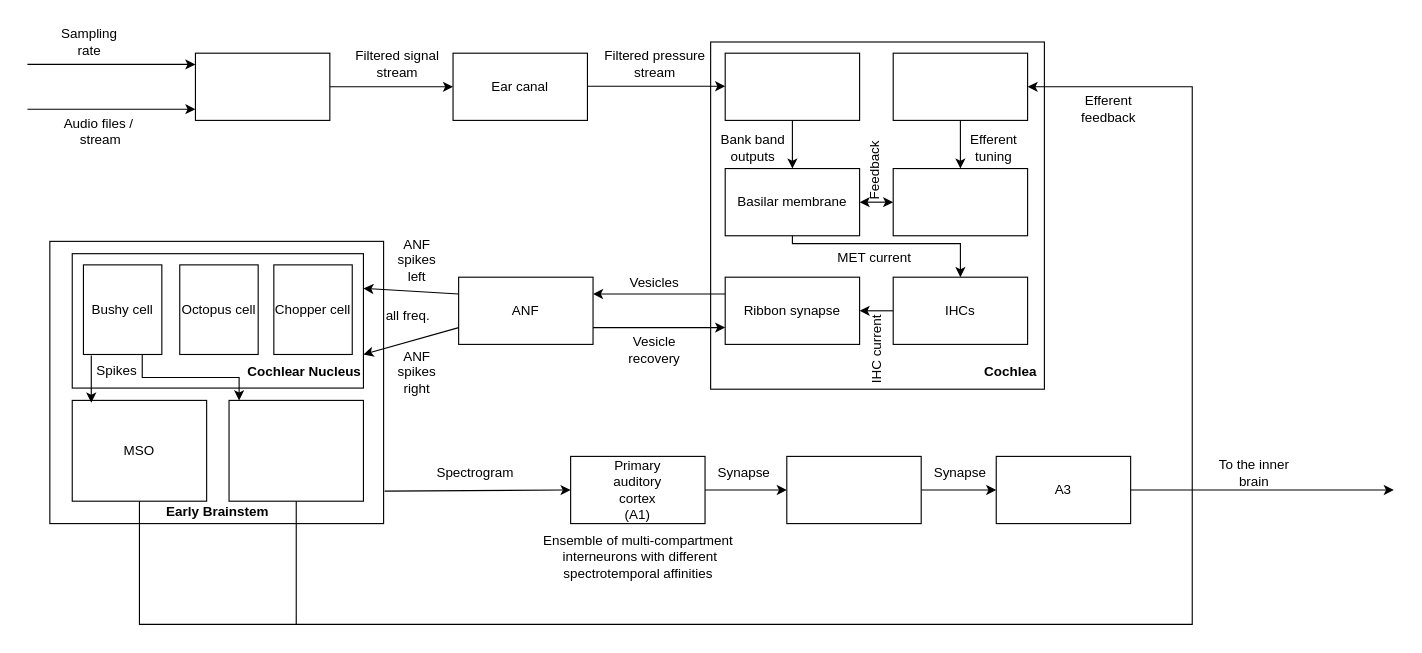
Some shapes in this 1422 by 653 pixel diagram are drawn without their labels. Here are the shapes that lost their labels. From the top down, the box of each, then its label:
(194, 52, 330, 120): Pinna
(724, 52, 860, 120): Gammatone bank for each segment
(892, 52, 1028, 120): Efferent fibers
(892, 167, 1028, 236): OHCs
(228, 399, 363, 501): LSO
(786, 455, 921, 524): A2
